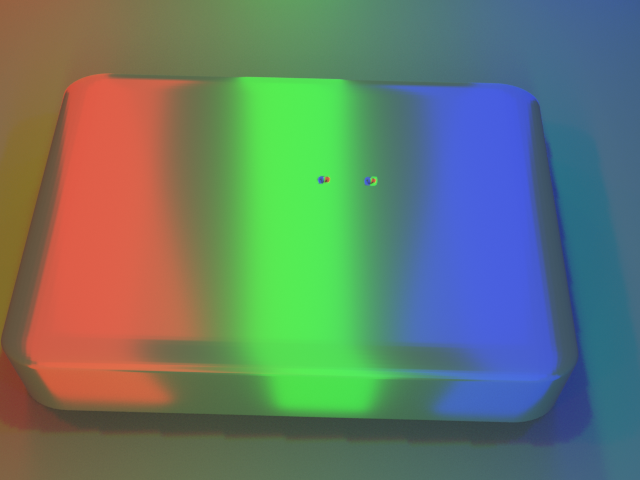dent: (357, 160, 391, 194), (305, 159, 339, 193)
